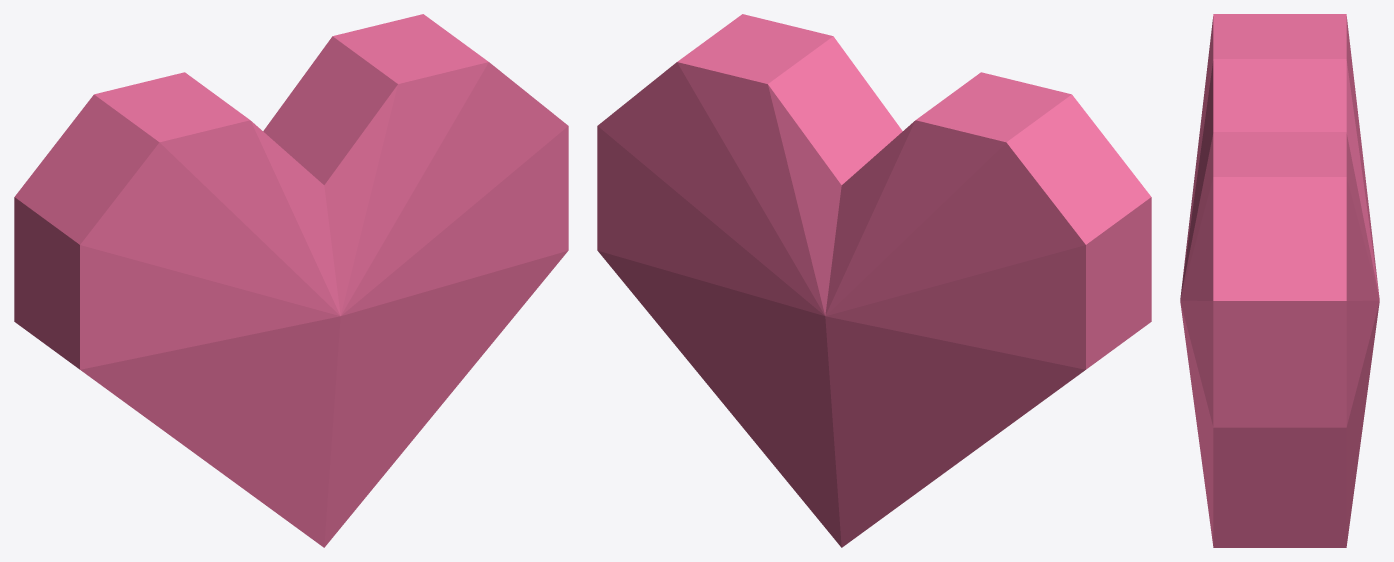
File: 32_extra_life_heart.obj
3 renders of one model, left to right at view 1: azimuth 30°, elevation 25°; view 2: azimuth 150°, elevation 25°; view 3: azimuth 270°, elevation 25°, orthographic.
Parts seen in each view (by area): view 1: part_0; view 2: part_0; view 3: part_0.
Boxes of the visible parts, x1=… form: part_0: x1=14, y1=14, x2=568, y2=547; part_0: x1=597, y1=14, x2=1151, y2=547; part_0: x1=1180, y1=14, x2=1379, y2=547.
Size of the model in its own units: 0.86 by 0.75 by 0.3.
